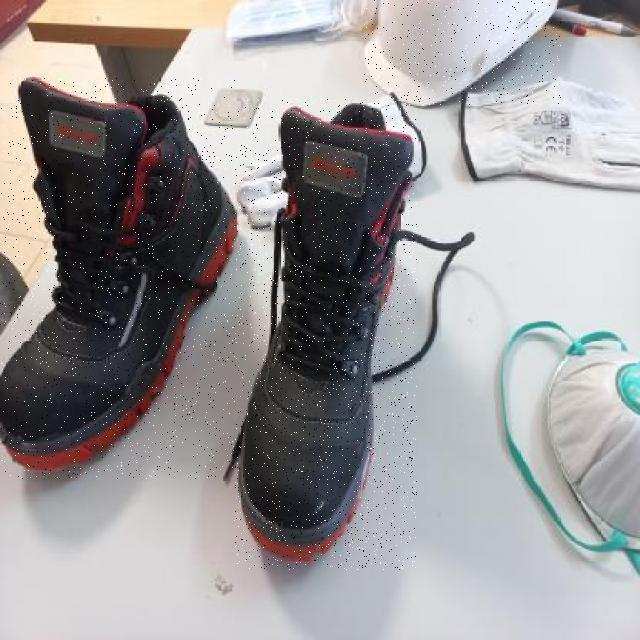boots: (0, 78, 237, 479), (234, 99, 417, 570)
helmet: (364, 0, 561, 105)
